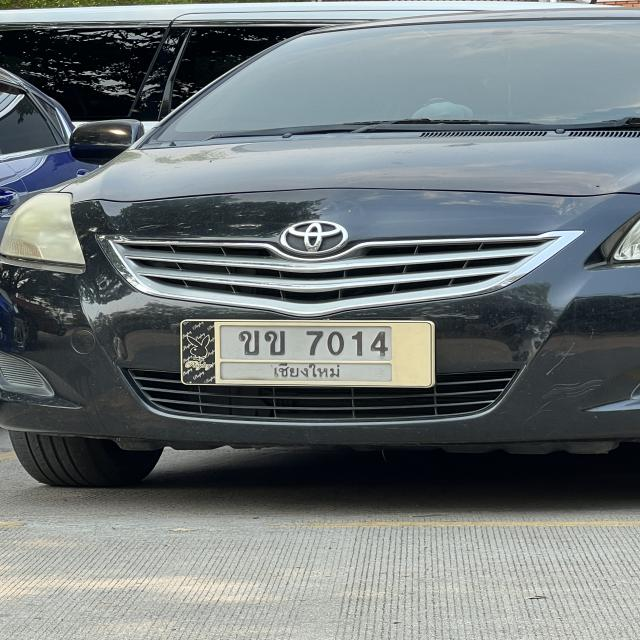license_plate: (180, 321, 432, 392)
